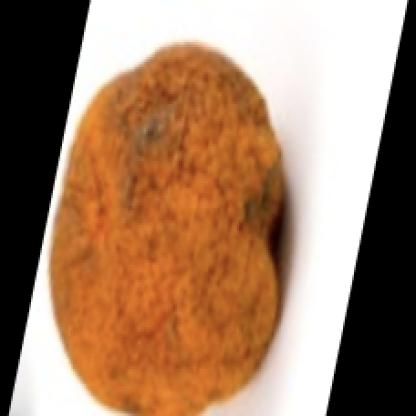rotten: (48, 41, 294, 416)
